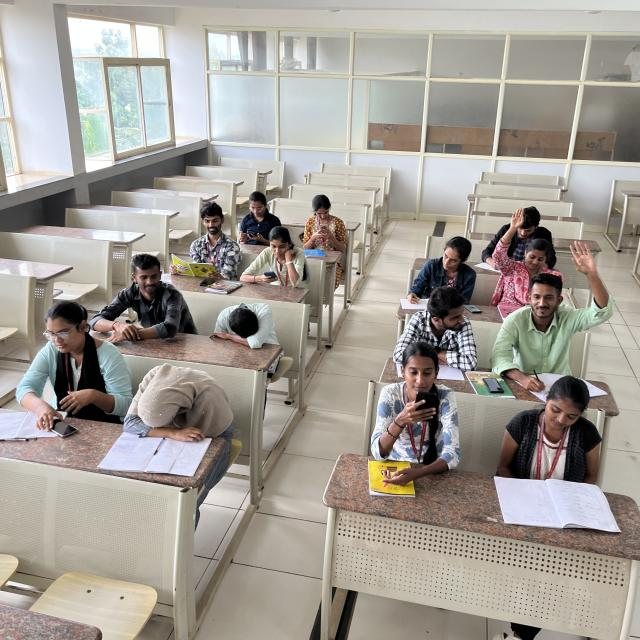Hand Rising: (488, 242, 619, 360), (491, 207, 553, 297)
Reading: (502, 376, 623, 508), (169, 194, 247, 279)
Sleeping: (118, 353, 240, 456), (200, 294, 286, 361)
Using Phone: (376, 344, 462, 452), (244, 226, 317, 295), (299, 187, 354, 256), (235, 184, 279, 246)
Writing: (378, 222, 476, 314)
